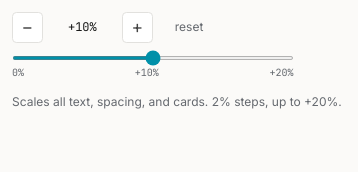
UIScaleControl › reset returns to 0 from any value
Expected: the 1st text "+10%" is shown, [68,19,97,35]
Click the button "reset" at [189, 27], box [166,12,212,43]
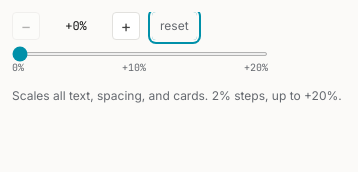
Expected: the text "+0%" is shown, [65,18,87,34]
